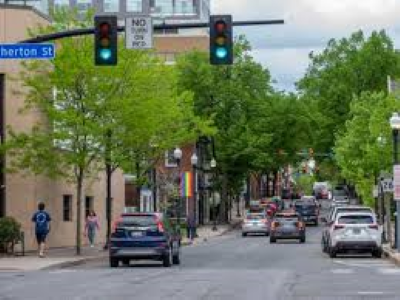trafficlight_green: (214, 18, 230, 61), (99, 19, 114, 62)
